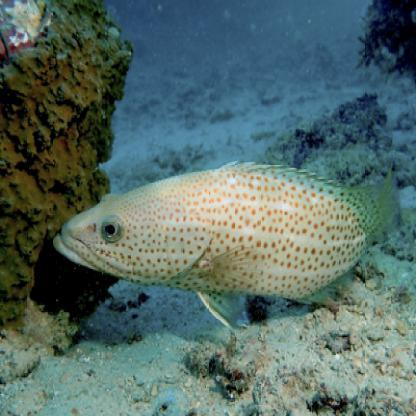Bio: (47, 155, 400, 337)
